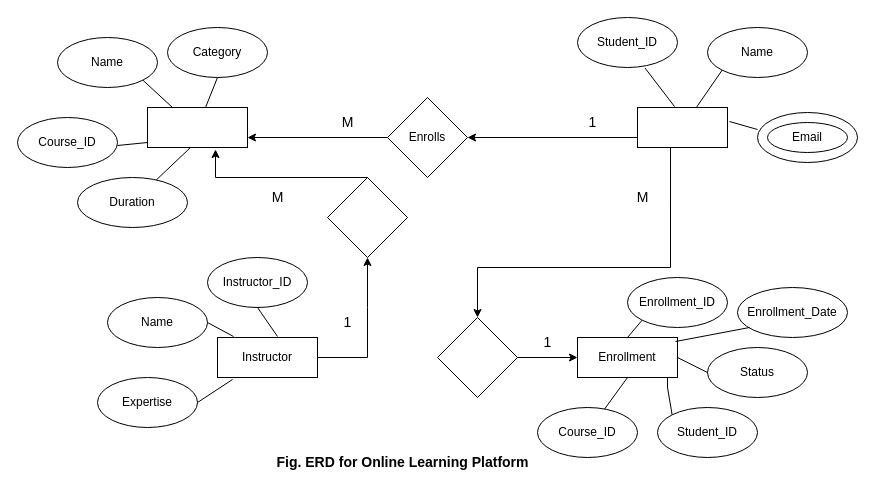
This 875x495 diagram has some shape labels left out. The shapes that lost their labels are listed below. From the top down, each one's centre as x and y in pixels, then its label:
At (197,127): "Course".
At (682,127): "Student".
At (367,217): "Teaches".
At (477,357): "Has".
